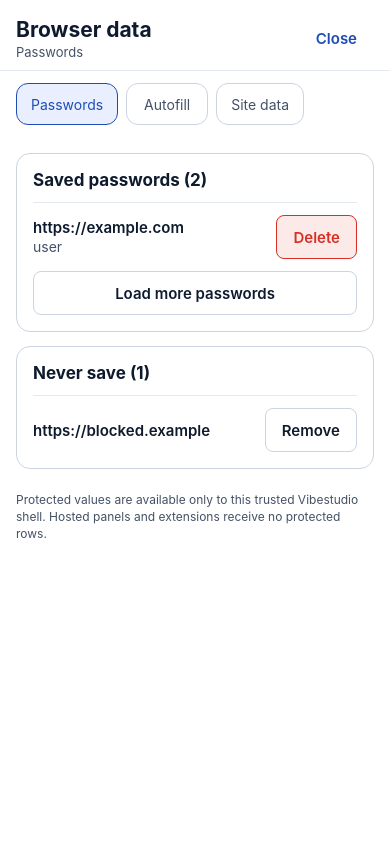
Scenario: BrowserPrivacyManager › confirms deletion, mutates through the trusted service, and refreshes
The image size is (390, 844).
Check: the text "https://example.com" is shown, box [33, 218, 184, 236]
Click the button "Delete" at {"x": 317, "y": 237}, box [276, 215, 357, 259]
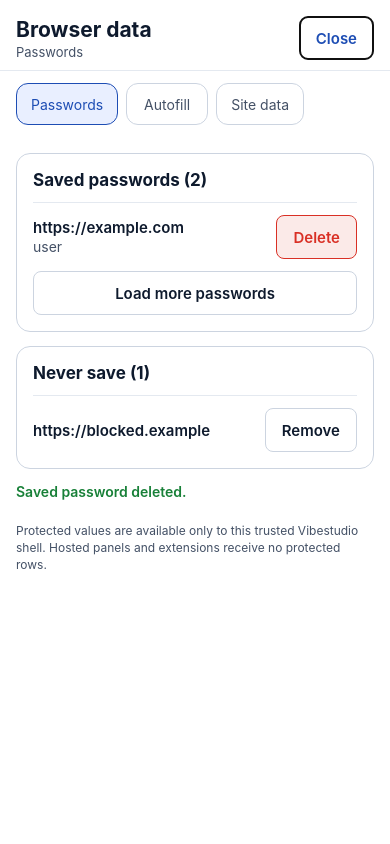
Check: the text "Saved password deleted." is shown, box [16, 483, 186, 500]
